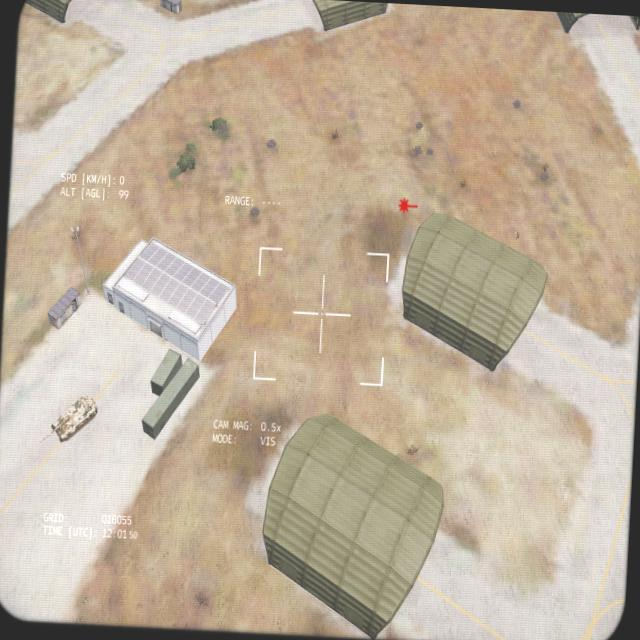tank: (37, 391, 99, 447)
